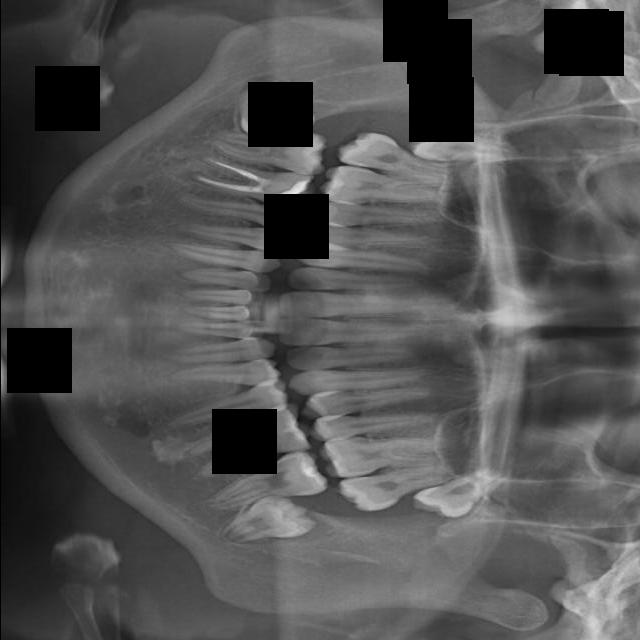3M ESPE Implant: (483, 151, 498, 153)
AGS Medikal Implant: (218, 502, 219, 503)
AMerOss Implant: (179, 399, 317, 494)
Amalgam filling: (334, 125, 459, 186)
Anthogyr Implant: (161, 378, 292, 440)
Bicon Implant: (167, 359, 280, 394)
BioHorizons Implant: (160, 337, 276, 367)
BioLife Implant: (176, 321, 267, 338)
Biomet 3i Implant: (182, 305, 265, 320)
Blue Sky Bio Implant: (176, 285, 265, 307)
Camlog Implant: (176, 263, 271, 292)
Caries: (285, 338, 420, 372)
Composite filling: (158, 239, 282, 274)
Cowellmedi Implant: (169, 209, 288, 254)
Crown: (177, 183, 299, 235)
DENTSPLY Implant: (319, 164, 444, 209)
Dentatus Implant: (186, 152, 318, 216)
Dentis Implant: (221, 140, 226, 142)
Dentium Implant: (256, 82, 264, 97)
Euroteknika Implant: (311, 200, 452, 233)
Filling: (301, 219, 429, 253)
Frontier Implant: (292, 243, 432, 276)
Hiossen Implant: (288, 358, 447, 399)
Implant: (278, 292, 433, 317)
Implant Direct: (286, 267, 421, 291)
Keystone Dental Implant: (278, 319, 431, 346)
MIS Implant: (301, 378, 434, 422)
Mandible: (310, 406, 434, 442)
Maxilla: (319, 425, 443, 482)
Megagen Implant: (410, 472, 442, 481)
Neodent Implant: (408, 458, 521, 532)
Neoss Implant: (216, 495, 318, 546)
